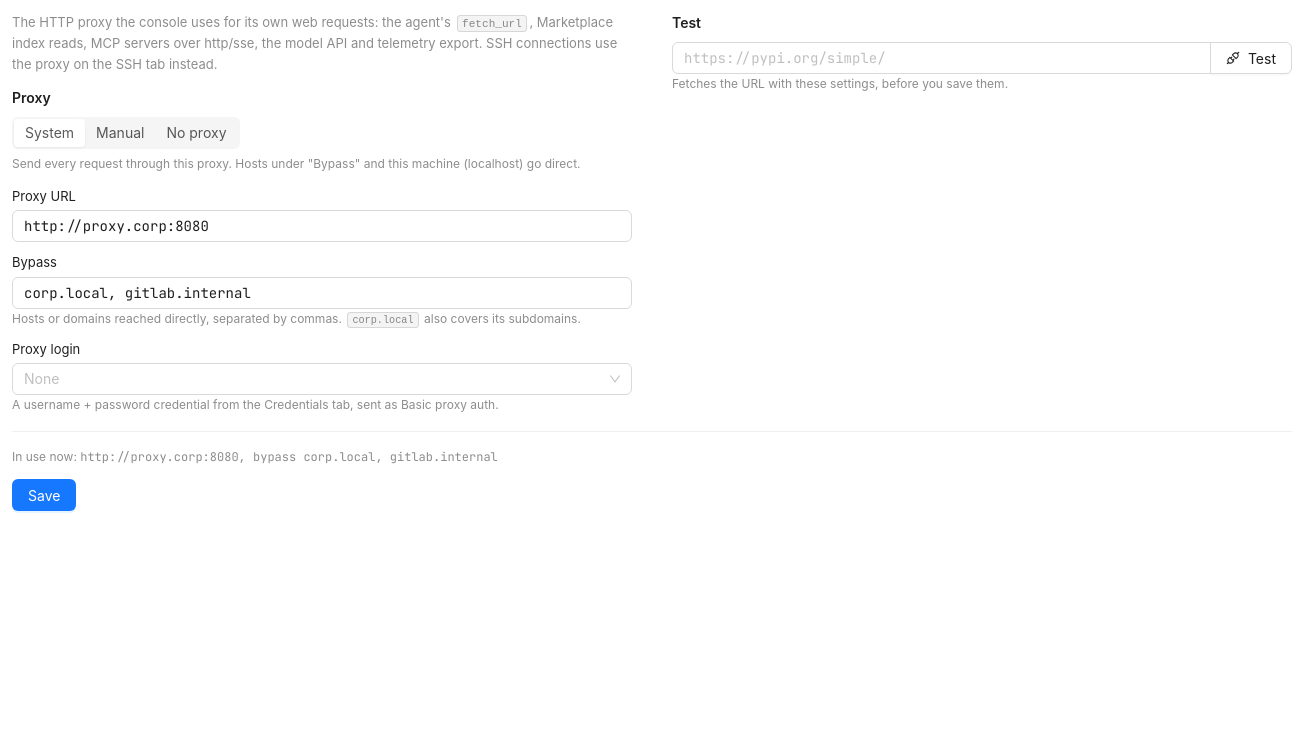
Test: Settings → Network › saves the form as an [http] payload
Type "proxy2:3128" into the field named "Proxy URL" at (322, 226), box x1=12 y1=210 x2=632 y2=242
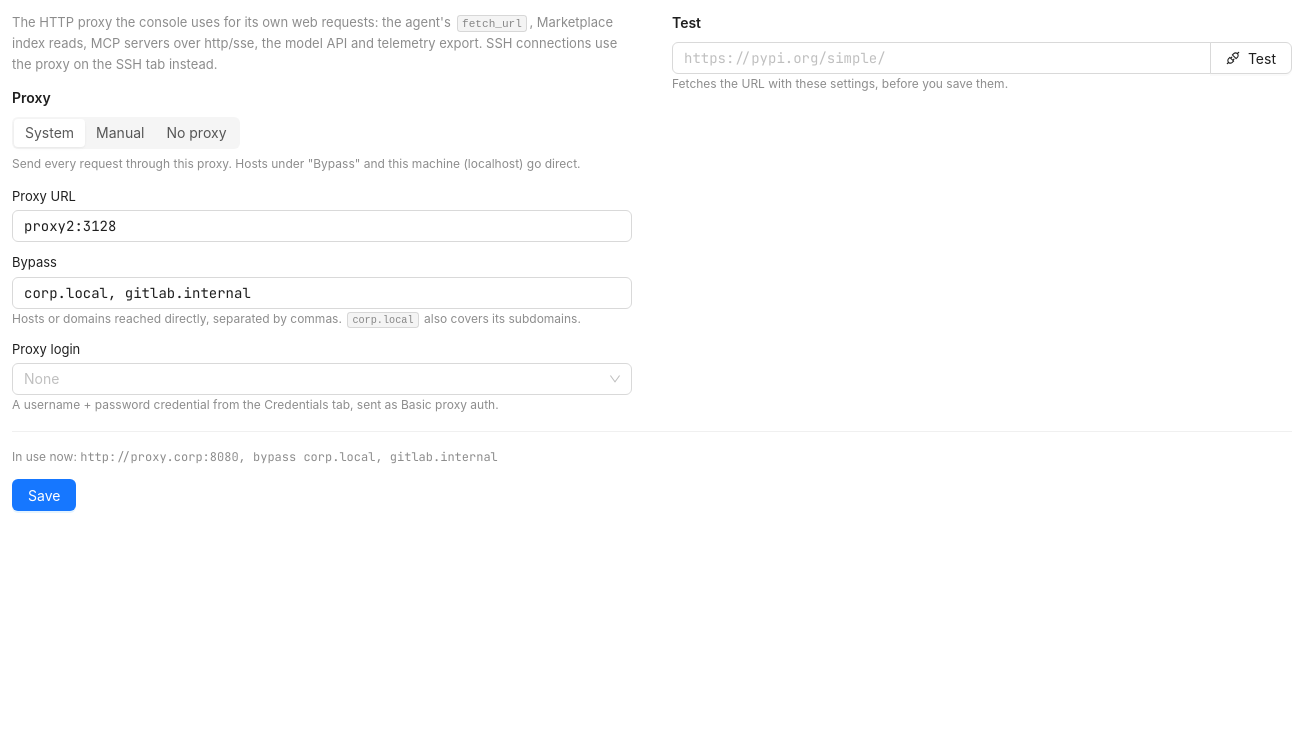
Click the button "Save" at (44, 495), box x1=12 y1=479 x2=76 y2=511
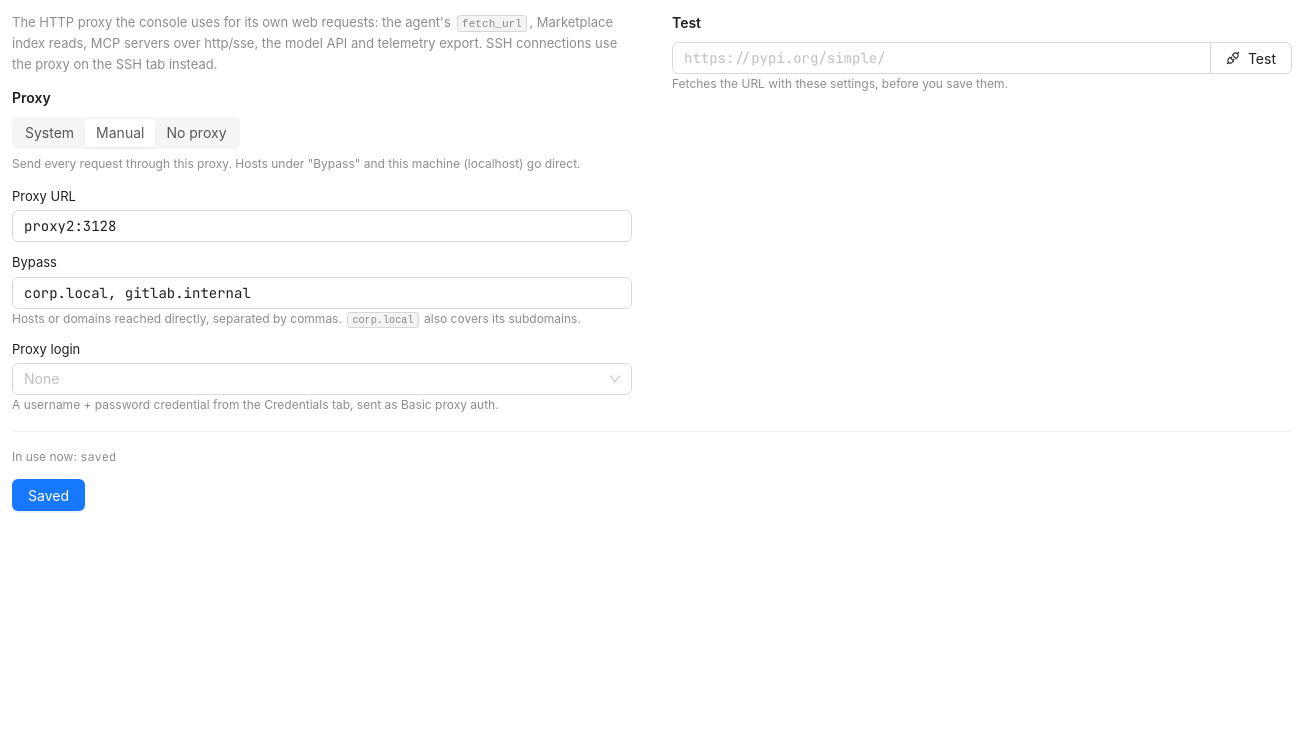
Check: the text "saved" is shown, box x1=80 y1=449 x2=116 y2=465
